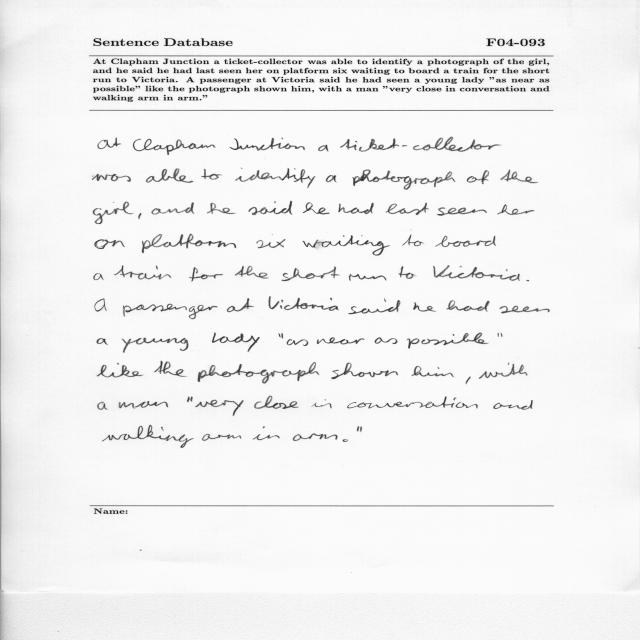word: (198, 362, 320, 383), (340, 137, 502, 152), (353, 169, 456, 190), (102, 425, 194, 448), (302, 235, 390, 256), (142, 234, 236, 253), (347, 396, 478, 409), (235, 168, 316, 188), (123, 304, 218, 319), (433, 265, 520, 281), (133, 139, 216, 155), (407, 333, 488, 348), (331, 363, 398, 379), (269, 296, 339, 311), (122, 338, 189, 353), (230, 138, 305, 151), (212, 333, 260, 352), (93, 202, 133, 224), (282, 267, 339, 282), (349, 299, 401, 315), (114, 266, 172, 280), (479, 363, 528, 379), (195, 400, 244, 416), (146, 168, 193, 183), (435, 236, 496, 247), (97, 363, 143, 377), (249, 201, 293, 215), (254, 396, 299, 409), (500, 170, 538, 184), (154, 361, 187, 377), (152, 203, 195, 215), (386, 203, 429, 215), (189, 267, 223, 282), (447, 301, 490, 312), (412, 366, 454, 377), (437, 207, 487, 216), (235, 266, 269, 279), (499, 306, 550, 314), (498, 204, 535, 215), (493, 400, 533, 410), (338, 203, 374, 214), (227, 298, 254, 312), (253, 426, 280, 440), (293, 433, 338, 441), (119, 401, 169, 408), (317, 338, 365, 345), (303, 203, 330, 215), (207, 203, 236, 214), (92, 174, 131, 182), (467, 170, 489, 184), (95, 240, 125, 250), (202, 434, 241, 441), (257, 239, 286, 248), (349, 274, 386, 281), (98, 138, 121, 149), (402, 235, 423, 246), (413, 302, 436, 312), (399, 266, 416, 279), (201, 169, 221, 180), (312, 400, 332, 409), (375, 337, 398, 344), (95, 299, 107, 312), (287, 339, 308, 346), (98, 402, 108, 410), (326, 175, 337, 182), (97, 338, 108, 345), (318, 145, 328, 152), (94, 273, 104, 280), (466, 377, 471, 385), (187, 397, 193, 403), (278, 333, 283, 339), (357, 426, 362, 432), (138, 213, 142, 219), (498, 333, 502, 337), (343, 439, 348, 442), (526, 280, 529, 281)
